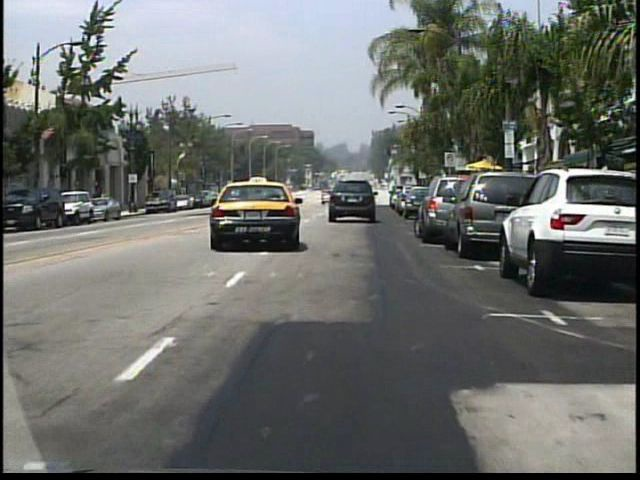person: (92, 187, 104, 215), (99, 189, 109, 215)
